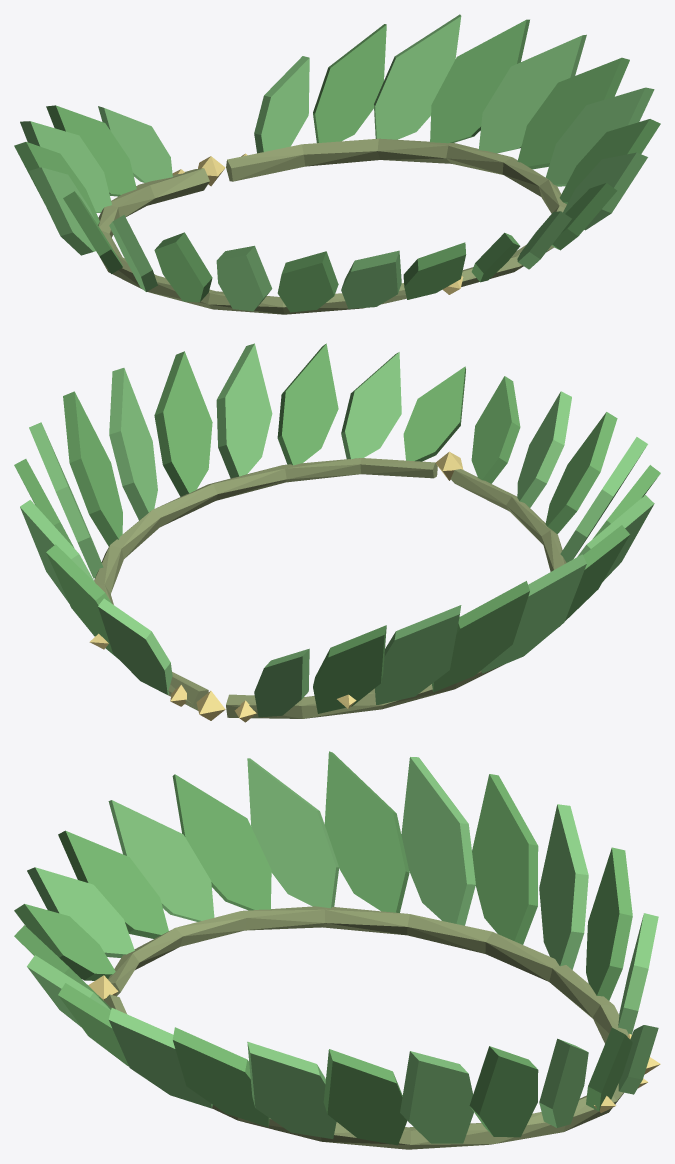
File: LeafCrown.fbx
3 views of the same model, one above another, from view 1: azimuth 30°, elevation 25°; view 2: azimuth 150°, elevation 25°; view 3: azimuth 270°, elevation 25° (orthographic). The views are drawn at different scales.
Visible parts, largest first — view 1: LeafCrown.LeavesMid, LeafCrown.LeavesDark, LeafCrown.Vines, LeafCrown.Buds; view 2: LeafCrown.LeavesDark, LeafCrown.LeavesMid, LeafCrown.Vines, LeafCrown.Buds; view 3: LeafCrown.LeavesDark, LeafCrown.LeavesMid, LeafCrown.Vines, LeafCrown.Buds.
Boxes of the visible parts, box(x1,y1,x2,y2) form: LeafCrown.LeavesMid: box(20, 14, 654, 311); LeafCrown.LeavesDark: box(14, 19, 660, 312); LeafCrown.Vines: box(98, 138, 566, 314); LeafCrown.Buds: box(172, 153, 463, 294); LeafCrown.LeavesDark: box(14, 343, 660, 713); LeafCrown.LeavesMid: box(20, 343, 654, 717); LeafCrown.Vines: box(94, 458, 566, 718); LeafCrown.Buds: box(89, 451, 463, 722); LeafCrown.LeavesDark: box(14, 751, 632, 1145); LeafCrown.LeavesMid: box(27, 757, 658, 1143); LeafCrown.Vines: box(104, 906, 628, 1149); LeafCrown.Buds: box(88, 975, 660, 1112).
Size of the model in its own units: 2.01 by 0.5523 by 1.79.
